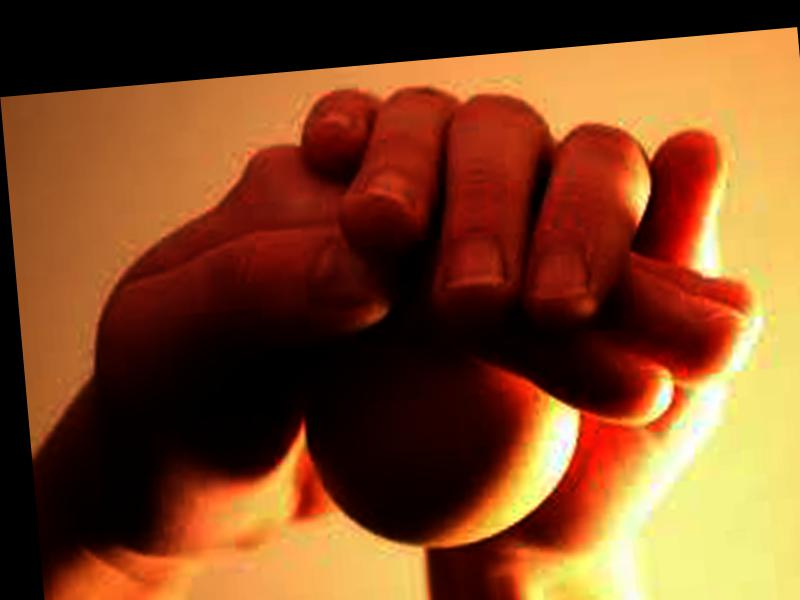Eggs: (296, 326, 590, 559)
